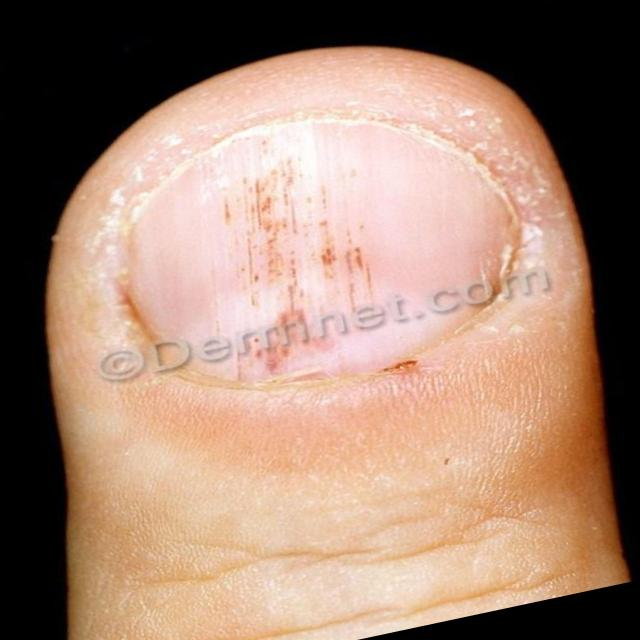Nail: (121, 115, 528, 390)
